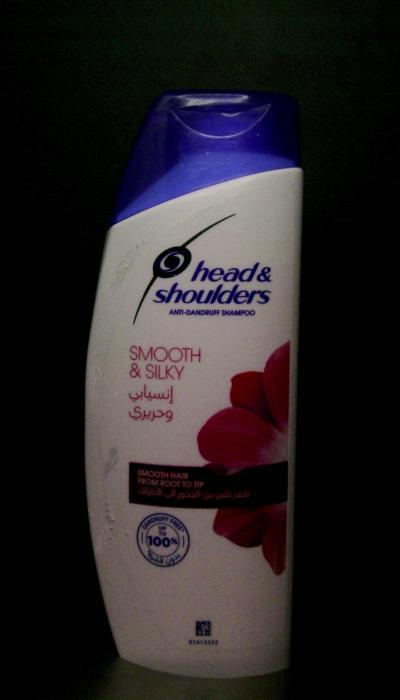scuff_marg: (85, 437, 134, 541), (97, 234, 158, 297)
